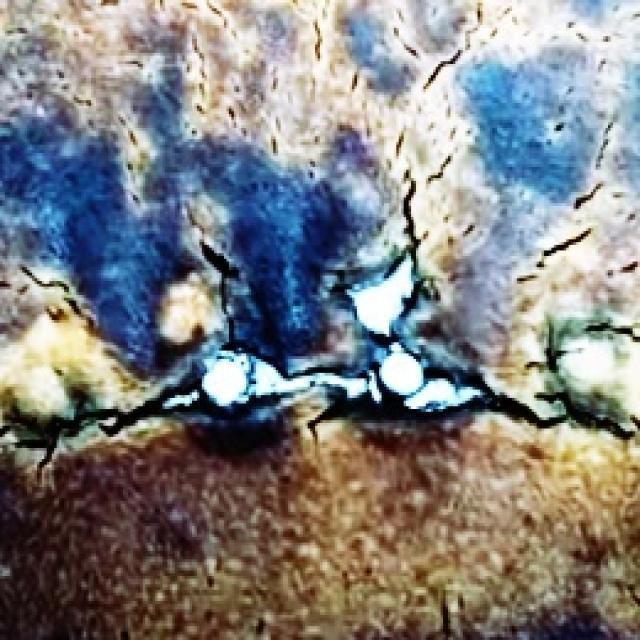crack: (177, 242, 278, 367), (37, 379, 160, 446)
